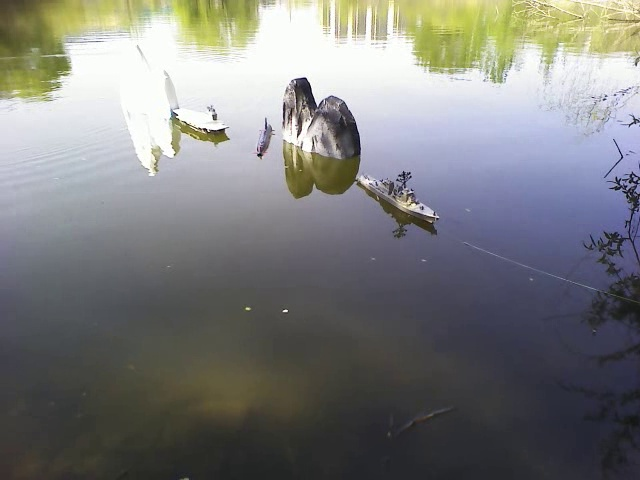aircraft_carrier: (174, 106, 229, 143)
iceberg: (113, 41, 180, 117)
rock: (279, 81, 361, 160)
submarine: (254, 117, 273, 159)
warship: (360, 174, 442, 228)
